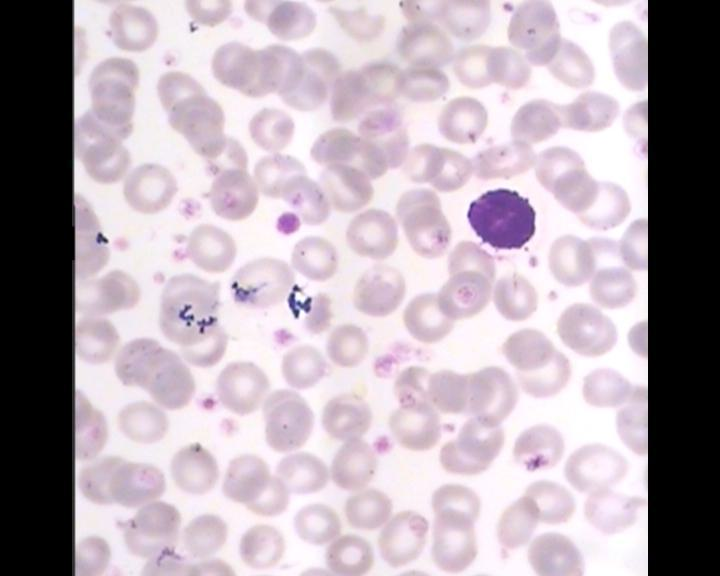baso: (462, 183, 542, 256)
